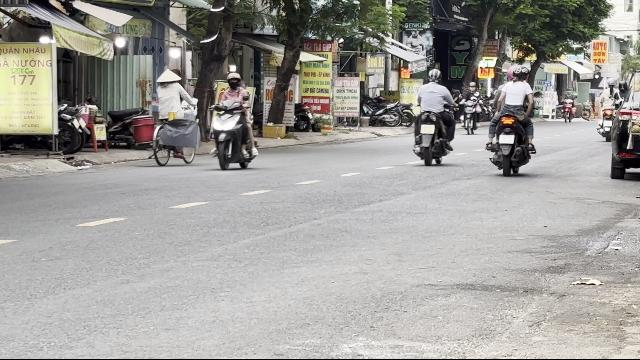helmet: (226, 72, 242, 90), (513, 63, 529, 81), (426, 68, 440, 82)
licenseplate: (500, 134, 514, 144), (421, 124, 435, 134)
motorcyclist: (484, 63, 536, 175), (208, 71, 260, 171), (410, 68, 456, 164)
